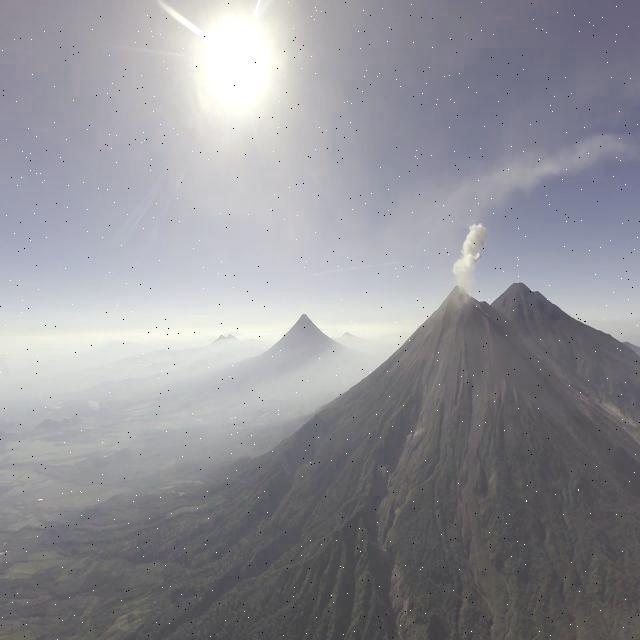Plume: (453, 221, 488, 294)
Summit: (438, 282, 480, 313)
